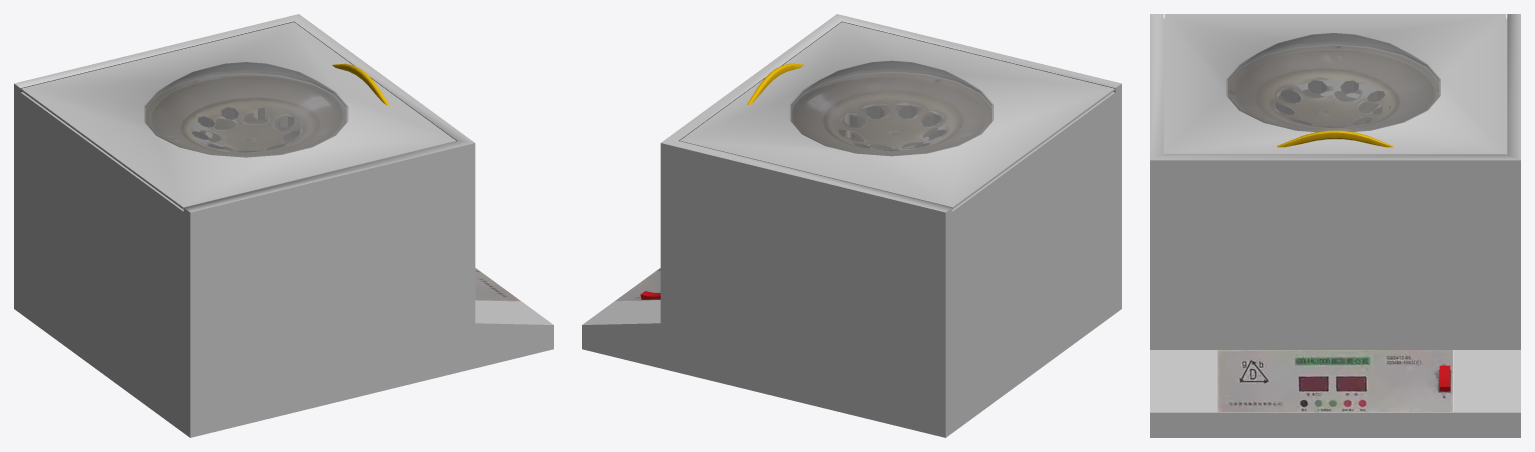
File: SM_乳脂离心机.fbx
3 renders of one model, left to right at view 1: azimuth 30°, elevation 25°; view 2: azimuth 150°, elevation 25°; view 3: azimuth 270°, elevation 25°, orthographic. The views are drawn at different scales.
Parts seen in each view (by area): view 1: SM_乳脂离心机, SM_乳脂离心机盖; view 2: SM_乳脂离心机, SM_乳脂离心机盖; view 3: SM_乳脂离心机, SM_乳脂离心机盖.
Boxes of the visible parts, x1,y1,x2,y2 form: SM_乳脂离心机: [14, 14, 553, 437]; SM_乳脂离心机盖: [21, 22, 455, 209]; SM_乳脂离心机: [582, 14, 1121, 437]; SM_乳脂离心机盖: [680, 22, 1114, 209]; SM_乳脂离心机: [1150, 14, 1520, 437]; SM_乳脂离心机盖: [1164, 14, 1506, 154].
Size of the model in its own units: 499 by 342 by 419.
